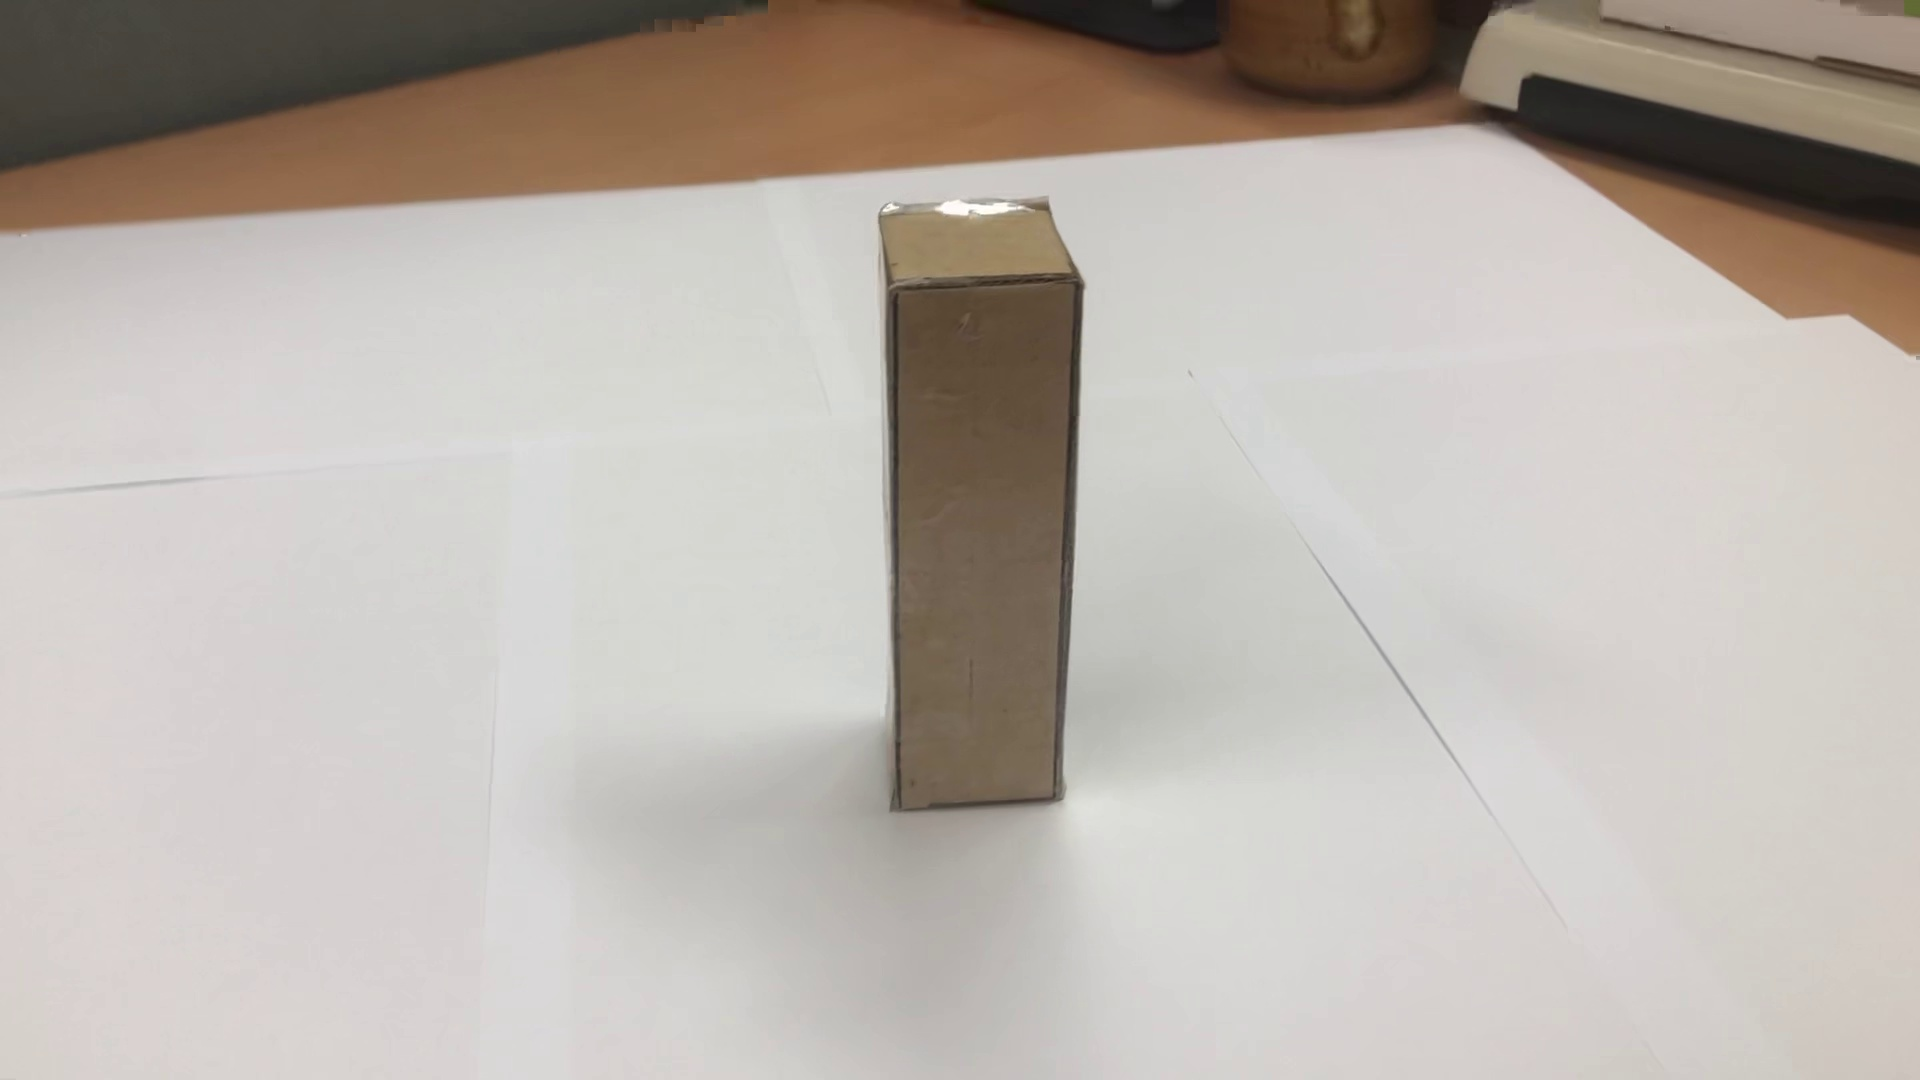box: (833, 181, 1109, 852)
